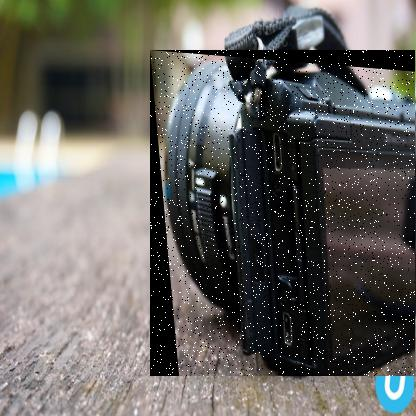Camera: (151, 51, 416, 378)
